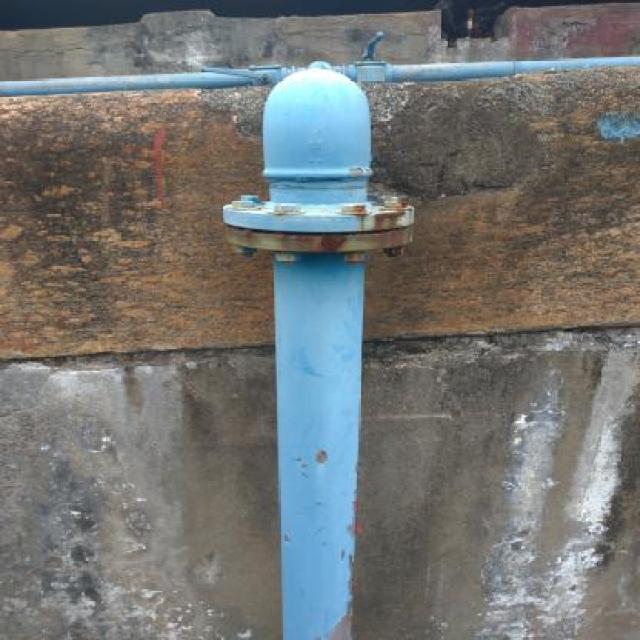gas: (261, 69, 371, 640), (2, 61, 518, 96)
